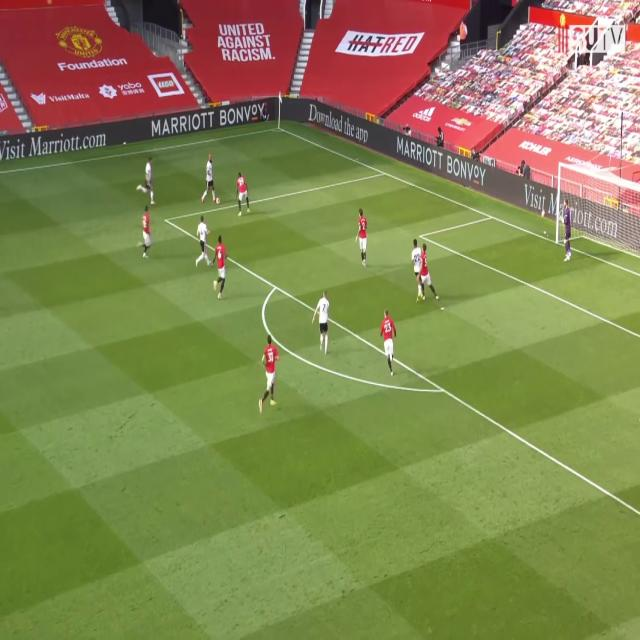ball: (216, 193, 221, 210)
team1: (262, 341, 280, 410), (420, 242, 440, 304), (380, 310, 396, 375), (215, 238, 231, 302), (141, 206, 154, 258), (358, 209, 369, 267), (236, 174, 250, 215)
team2: (312, 293, 329, 353), (197, 218, 213, 264), (202, 154, 216, 205), (141, 158, 154, 203), (411, 236, 419, 273)
